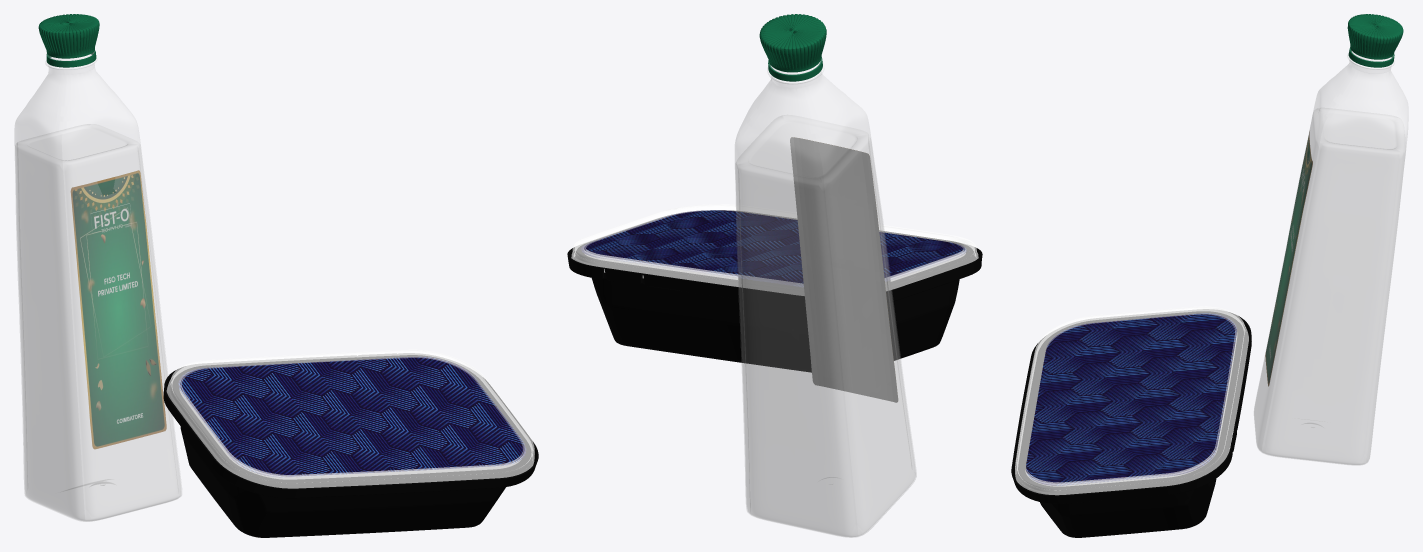
The picture shows the model from 3 angles, left to right: view 1: azimuth 30°, elevation 25°; view 2: azimuth 150°, elevation 25°; view 3: azimuth 270°, elevation 25°; orthographic projection. The views are drawn at different scales.
Parts seen in each view (by area): view 1: bottle, bottle_WATER001, Plane001_2, empty_2, label, empty_3, Circle001; view 2: bottle, bottle_WATER001, empty_2, label002, Plane001_2, empty_3, Circle001; view 3: bottle, bottle_WATER001, Plane001_2, empty_2, empty_3, label, Circle001.
Part boxes in pixels (x1,y1,x2,y2): bottle: (14, 51, 181, 521); bottle_WATER001: (15, 124, 180, 520); Plane001_2: (179, 357, 525, 477); empty_2: (163, 353, 538, 537); label: (70, 170, 166, 449); empty_3: (166, 349, 534, 488); Circle001: (38, 14, 99, 58); bottle: (735, 59, 916, 537); bottle_WATER001: (736, 115, 915, 536); empty_2: (567, 210, 982, 372); label002: (790, 137, 898, 402); Plane001_2: (581, 210, 966, 286); empty_3: (571, 204, 978, 295); Circle001: (759, 14, 826, 72); bottle: (1254, 49, 1408, 465); bottle_WATER001: (1254, 108, 1405, 464); Plane001_2: (1026, 313, 1236, 485); empty_2: (1011, 309, 1251, 537); empty_3: (1015, 306, 1248, 495); label: (1265, 134, 1312, 386); Circle001: (1347, 14, 1403, 59).
Size of the model in its own units: 0.2266 by 0.2747 by 0.2338.
Materials: 13 (4 with a texture image).
